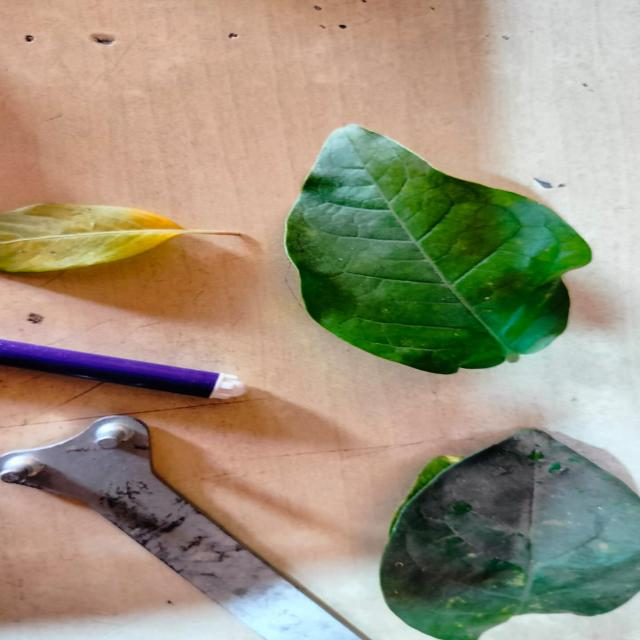Leaves: (284, 125, 594, 378), (380, 428, 640, 640), (0, 202, 260, 276)
Metal: (0, 417, 365, 640)
Pen: (0, 340, 244, 400)
